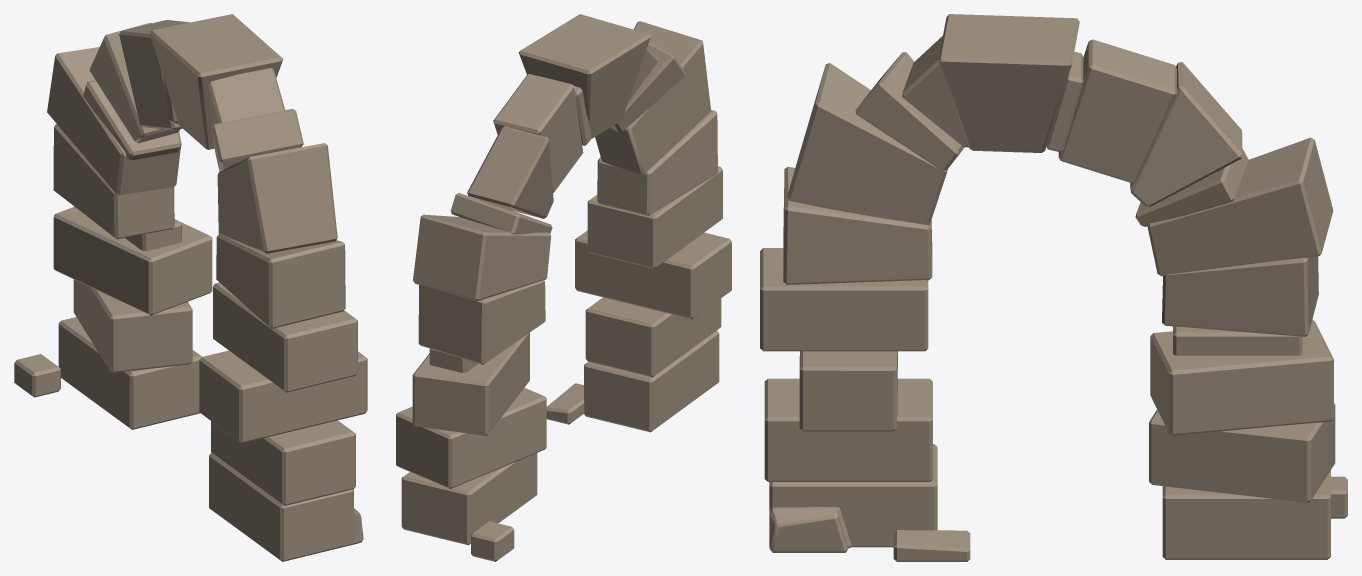
The model's file is hallie_stone_arch.fbx.
The picture shows the model from 3 angles, left to right: view 1: azimuth 30°, elevation 25°; view 2: azimuth 150°, elevation 25°; view 3: azimuth 270°, elevation 25°; orthographic projection. The views are drawn at different scales.
Parts seen in each view (by area): view 1: m_stoneArch1; view 2: m_stoneArch1; view 3: m_stoneArch1.
Part boxes in pixels (x1,y1,x2,y2): m_stoneArch1: (14,14,367,561); m_stoneArch1: (396,14,731,561); m_stoneArch1: (760,14,1347,561).
Size of the model in its own units: 3.81 by 11.46 by 12.3.
